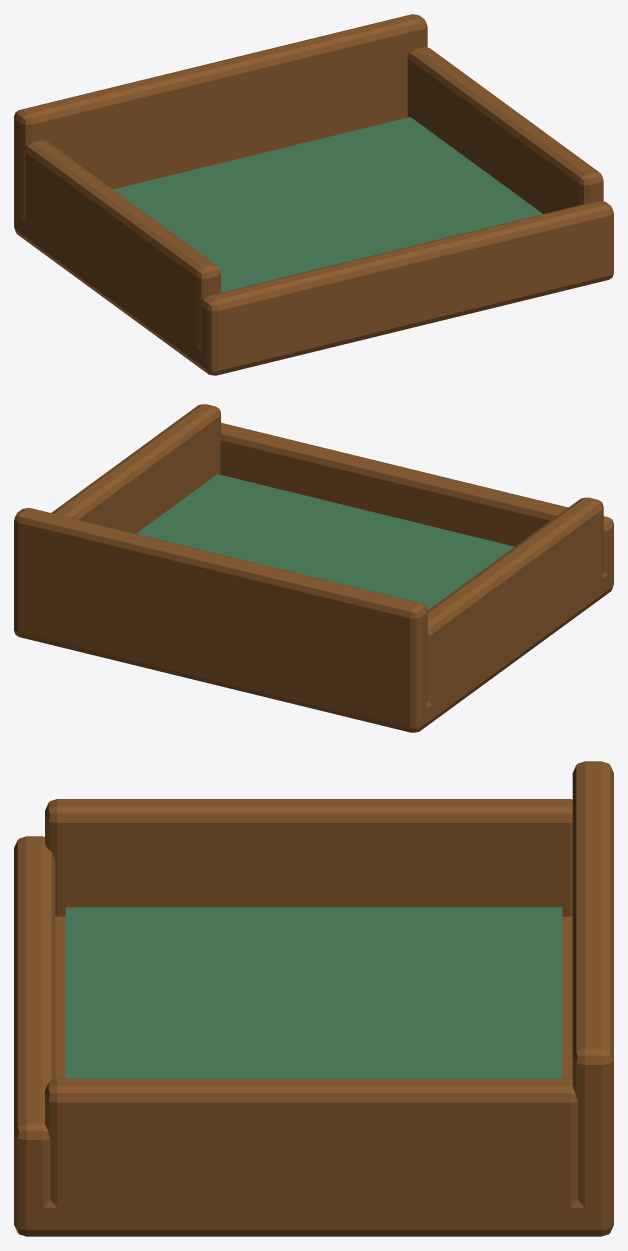
Rendered from game_tray.glb.
3 views of the same model, one above another, from view 1: azimuth 30°, elevation 25°; view 2: azimuth 150°, elevation 25°; view 3: azimuth 270°, elevation 25° (orthographic). The views are drawn at different scales.
Parts seen in each view (by area): view 1: game_tray_wood, game_tray_felt; view 2: game_tray_wood, game_tray_felt; view 3: game_tray_wood, game_tray_felt.
Part boxes in pixels (bbox=[...]): game_tray_wood: bbox=[14, 14, 613, 375]; game_tray_felt: bbox=[113, 117, 542, 292]; game_tray_wood: bbox=[14, 404, 613, 732]; game_tray_felt: bbox=[136, 474, 514, 610]; game_tray_wood: bbox=[14, 761, 613, 1236]; game_tray_felt: bbox=[65, 907, 562, 1078].
Size of the model in its own units: 0.34 by 0.1 by 0.29.
